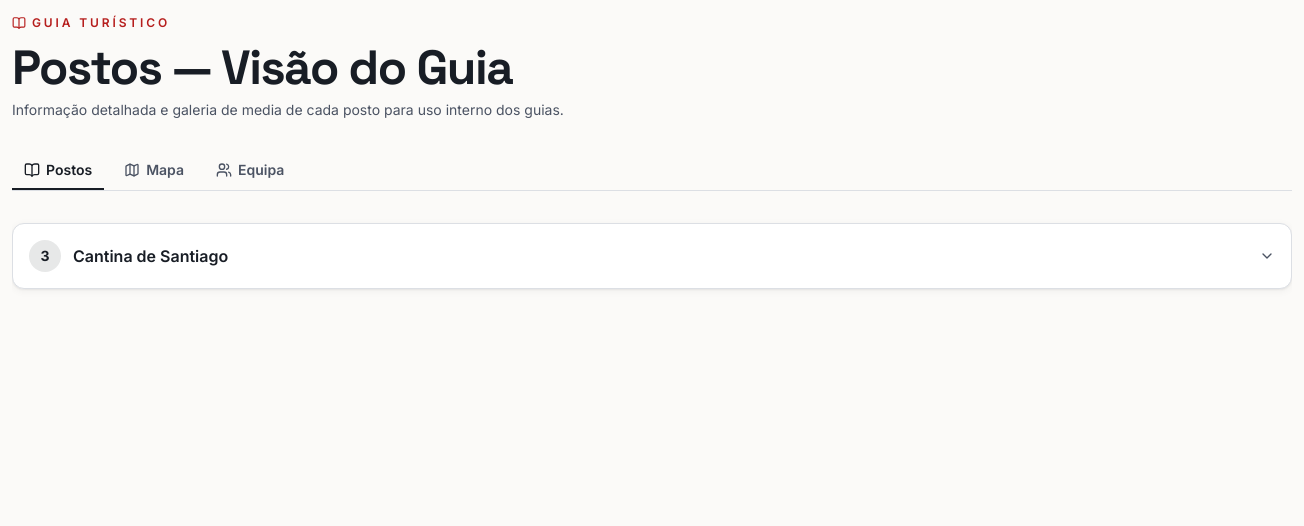
Test: GuidePage › shows the staff script and the challenge brief to whoever is at the post
Click the text "Cantina de Santiago".
click(151, 256)  # box 73,246 -> 228,266
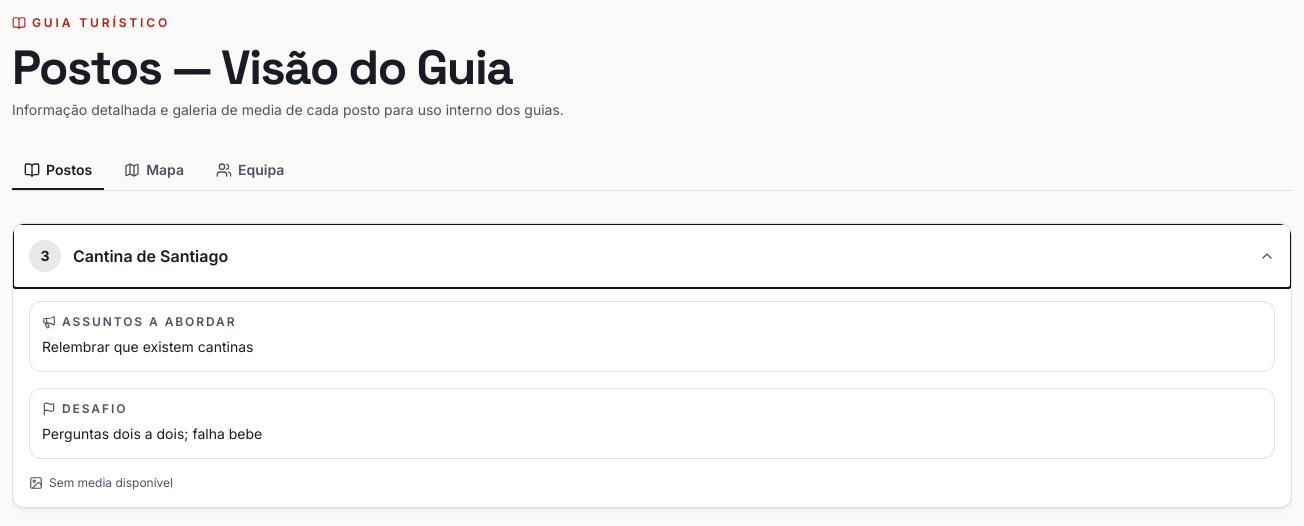
Expected: the text "Relembrar que existem cantinas" is shown, 42,338 -> 254,355
Expected: the text "Perguntas dois a dois; falha bebe" is shown, 42,425 -> 262,442
